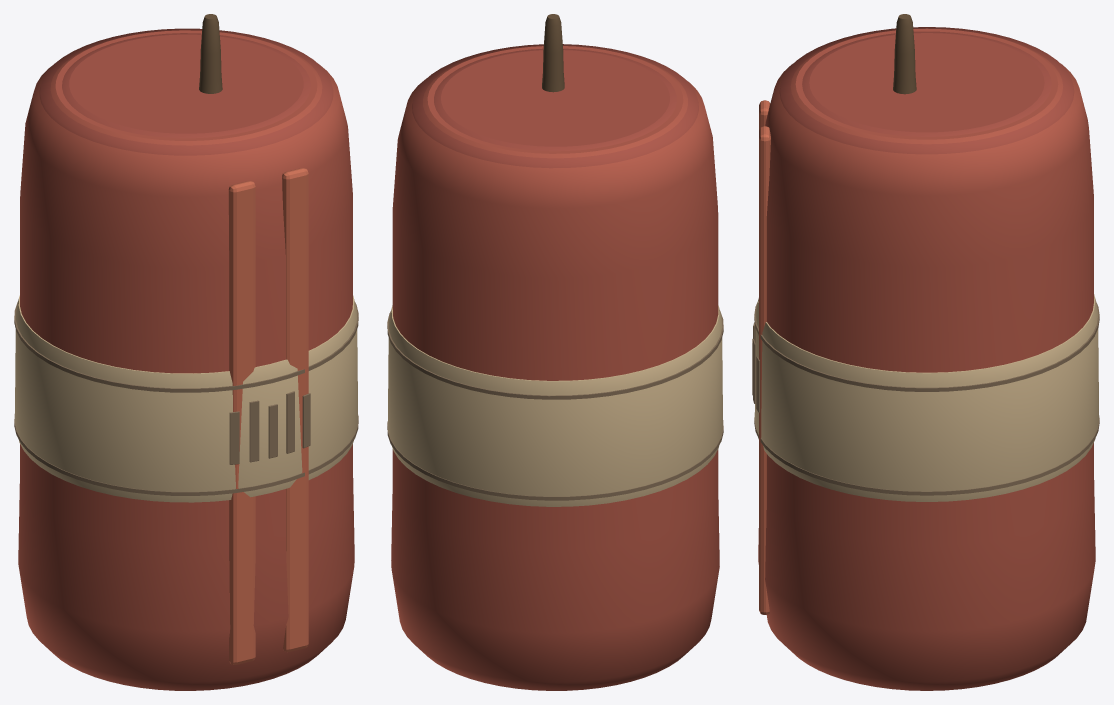
File: dynamite.glb
The picture shows the model from 3 angles, left to right: view 1: azimuth 30°, elevation 25°; view 2: azimuth 150°, elevation 25°; view 3: azimuth 270°, elevation 25°; orthographic projection. The views are drawn at different scales.
Visible parts, largest first — view 1: Clay red kraft paper, Old printed paper, Rolled kraft overlap, Burnished seam paper, Paper label dark line, Waxed dark cord; view 2: Clay red kraft paper, Old printed paper, Rolled kraft overlap, Paper label dark line, Waxed dark cord; view 3: Clay red kraft paper, Old printed paper, Rolled kraft overlap, Paper label dark line, Burnished seam paper, Waxed dark cord.
Boxes of the visible parts, x1,y1,x2,y2 form: Clay red kraft paper: (18,30,354,690); Old printed paper: (15,295,357,502); Rolled kraft overlap: (39,28,333,155); Burnished seam paper: (228,168,308,664); Paper label dark line: (14,302,358,495); Waxed dark cord: (199,14,222,93); Clay red kraft paper: (391,46,719,690); Old printed paper: (388,305,722,506); Rolled kraft overlap: (412,44,698,168); Paper label dark line: (387,311,723,500); Waxed dark cord: (542,14,564,92); Clay red kraft paper: (758,28,1095,690); Old printed paper: (754,294,1099,501); Rolled kraft overlap: (779,27,1074,154); Paper label dark line: (752,302,1099,495); Burnished seam paper: (759,100,770,614); Waxed dark cord: (893,14,916,94).
Size of the model in its own units: 0.2026 by 0.401 by 0.2037.
